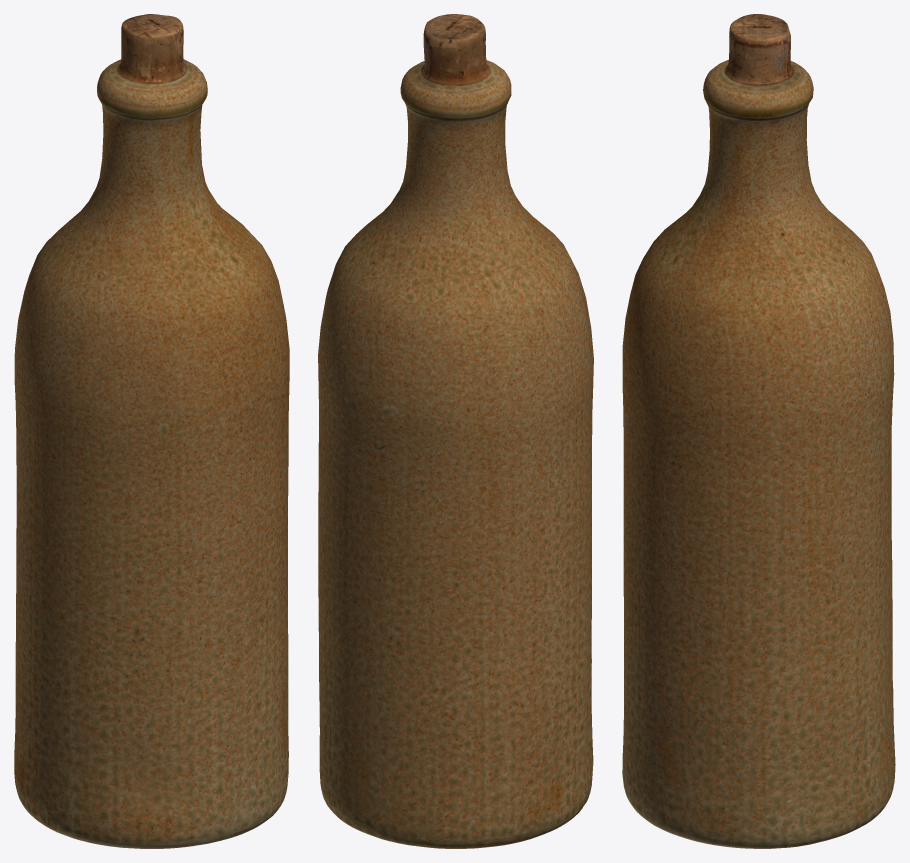
File: SM_Ceramic_Bottle_A.fbx
3 views of the same model, side by side, from view 1: azimuth 30°, elevation 25°; view 2: azimuth 150°, elevation 25°; view 3: azimuth 270°, elevation 25° (orthographic).
Visible parts, largest first — view 1: SM_Ceramic_Bottle_A_LOD0; view 2: SM_Ceramic_Bottle_A_LOD0; view 3: SM_Ceramic_Bottle_A_LOD0.
Boxes of the visible parts, x1,y1,x2,y2 form: SM_Ceramic_Bottle_A_LOD0: (14,14,289,848); SM_Ceramic_Bottle_A_LOD0: (318,14,593,848); SM_Ceramic_Bottle_A_LOD0: (622,14,895,848).
Size of the model in its own units: 8.2 by 8.17 by 25.51.
1 material, 1 textured.
